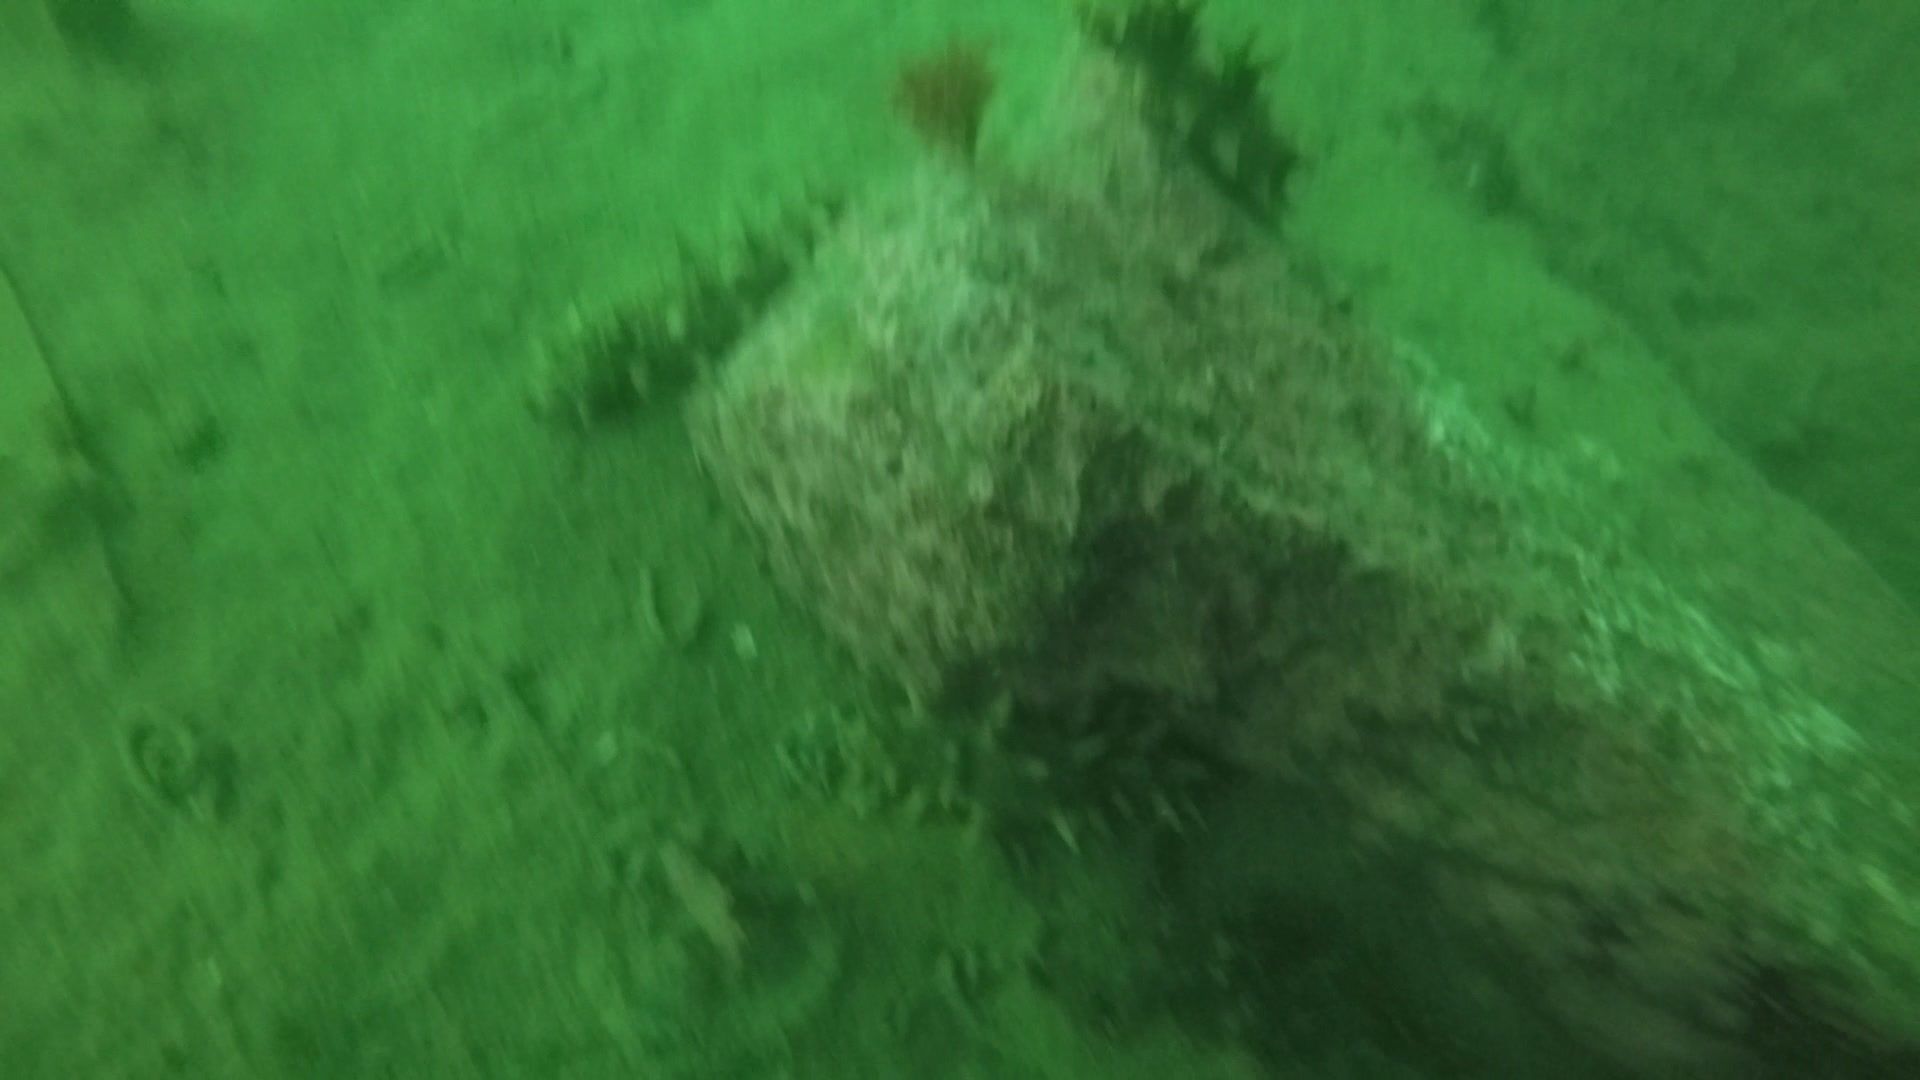echinus: (887, 53, 1007, 158)
holothurian: (510, 175, 844, 433), (765, 702, 1204, 845), (1088, 1, 1302, 220)
